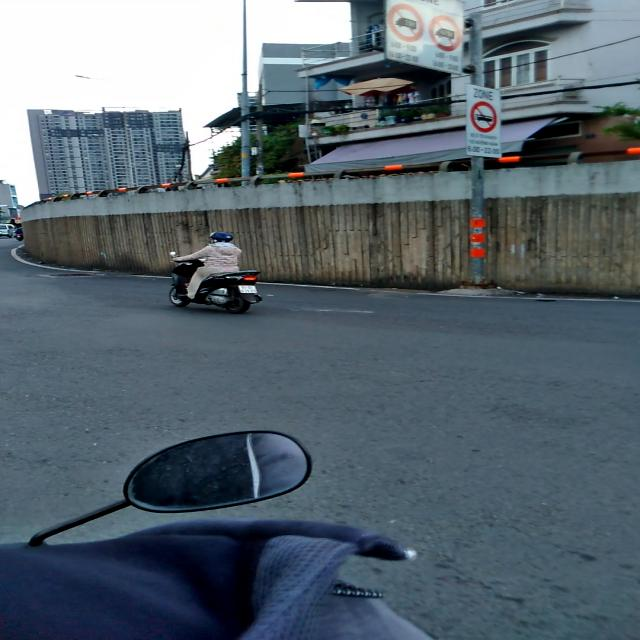P.106b: (387, 3, 424, 42), (428, 14, 462, 52)
P.107a: (470, 101, 498, 133)
